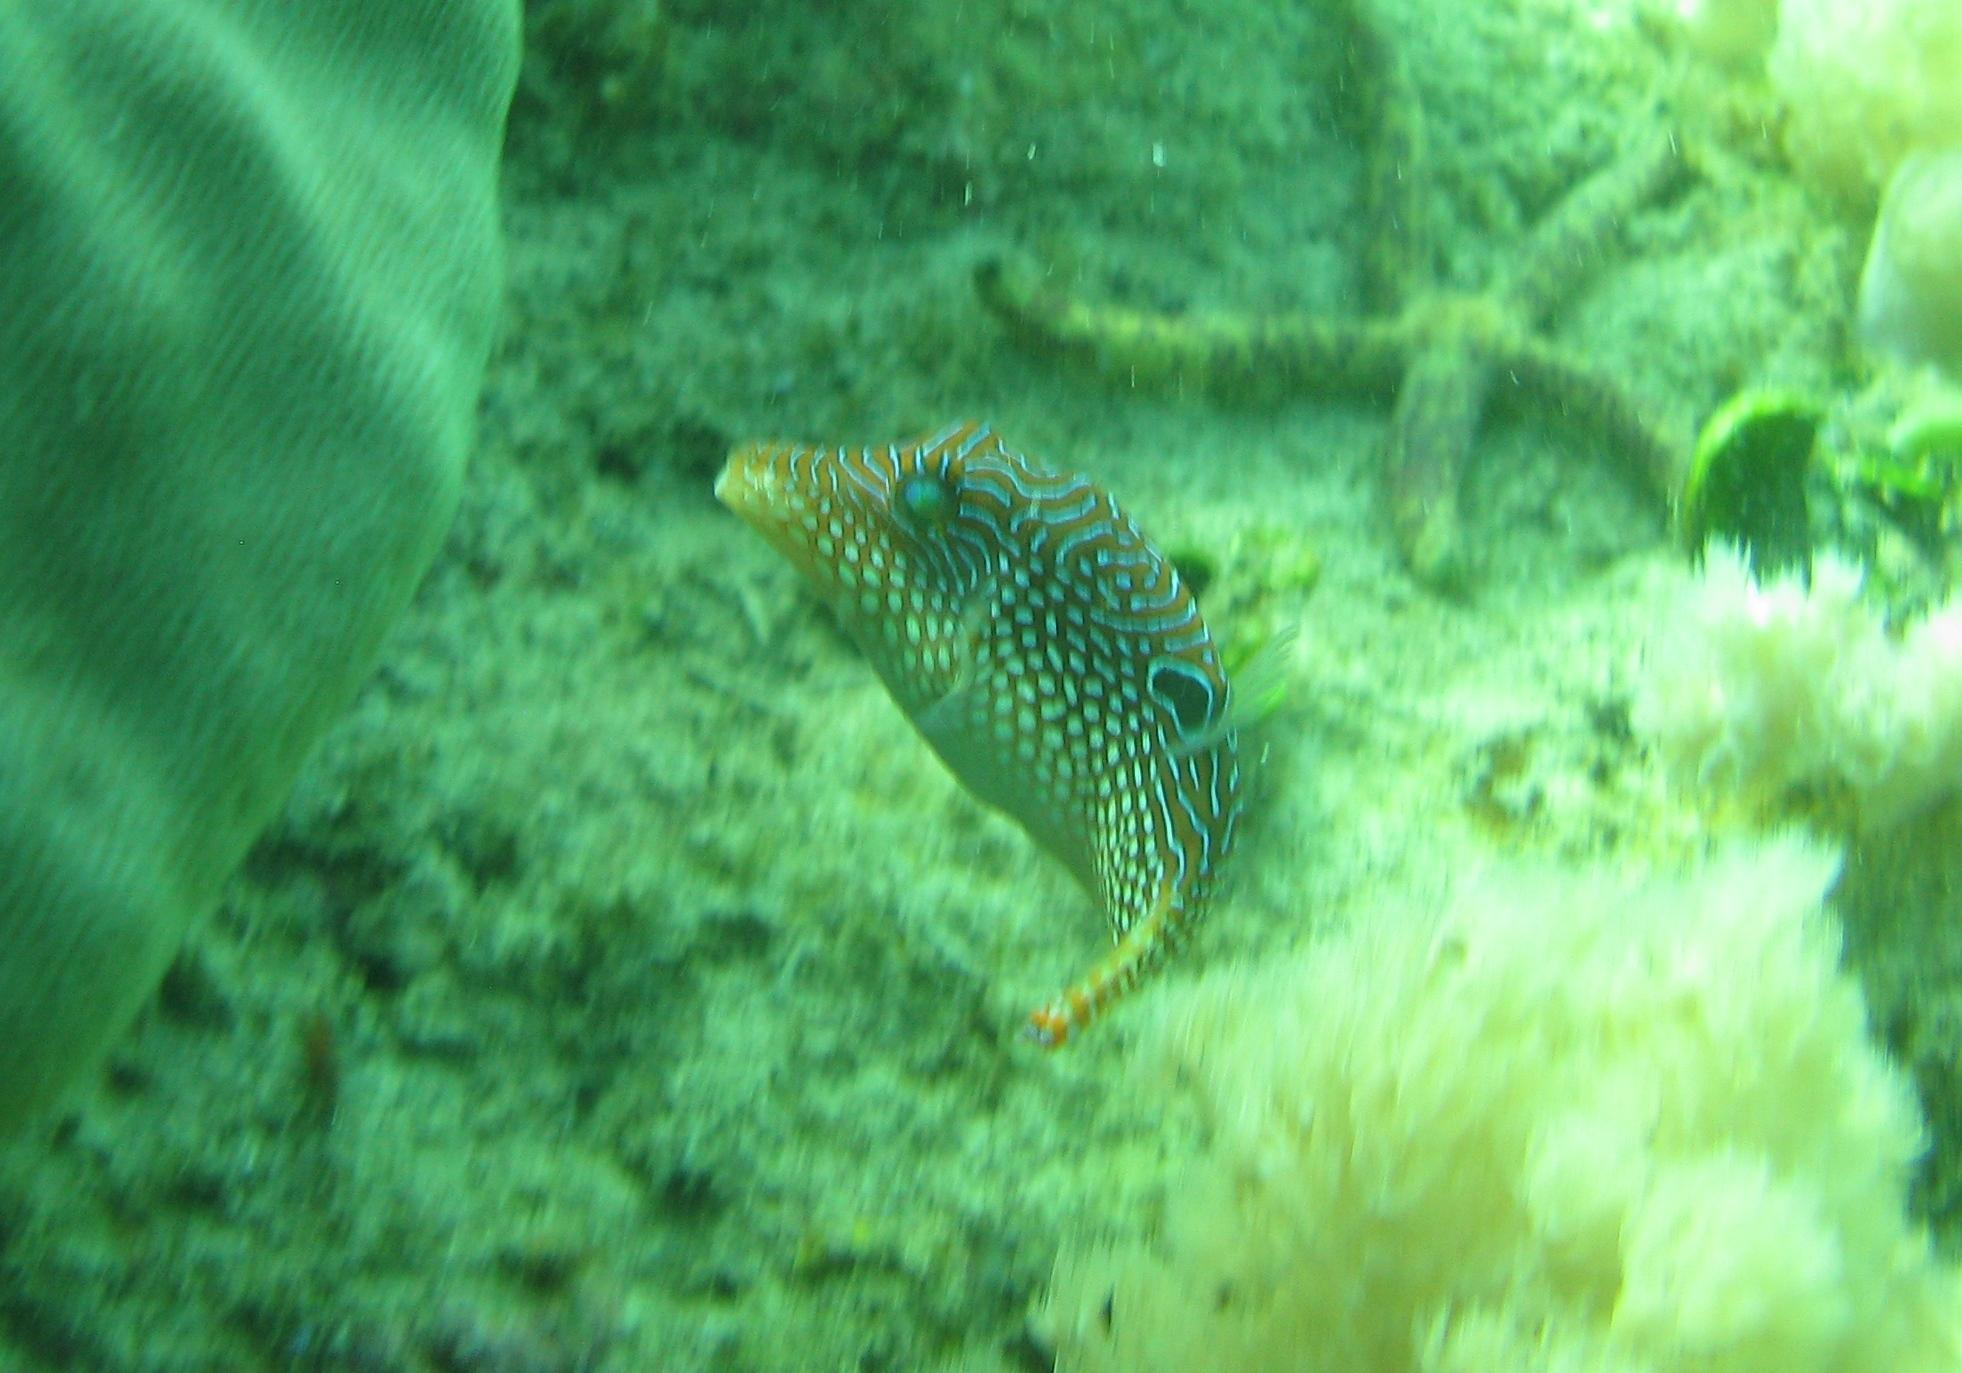Fish: (592, 309, 1336, 1082)
